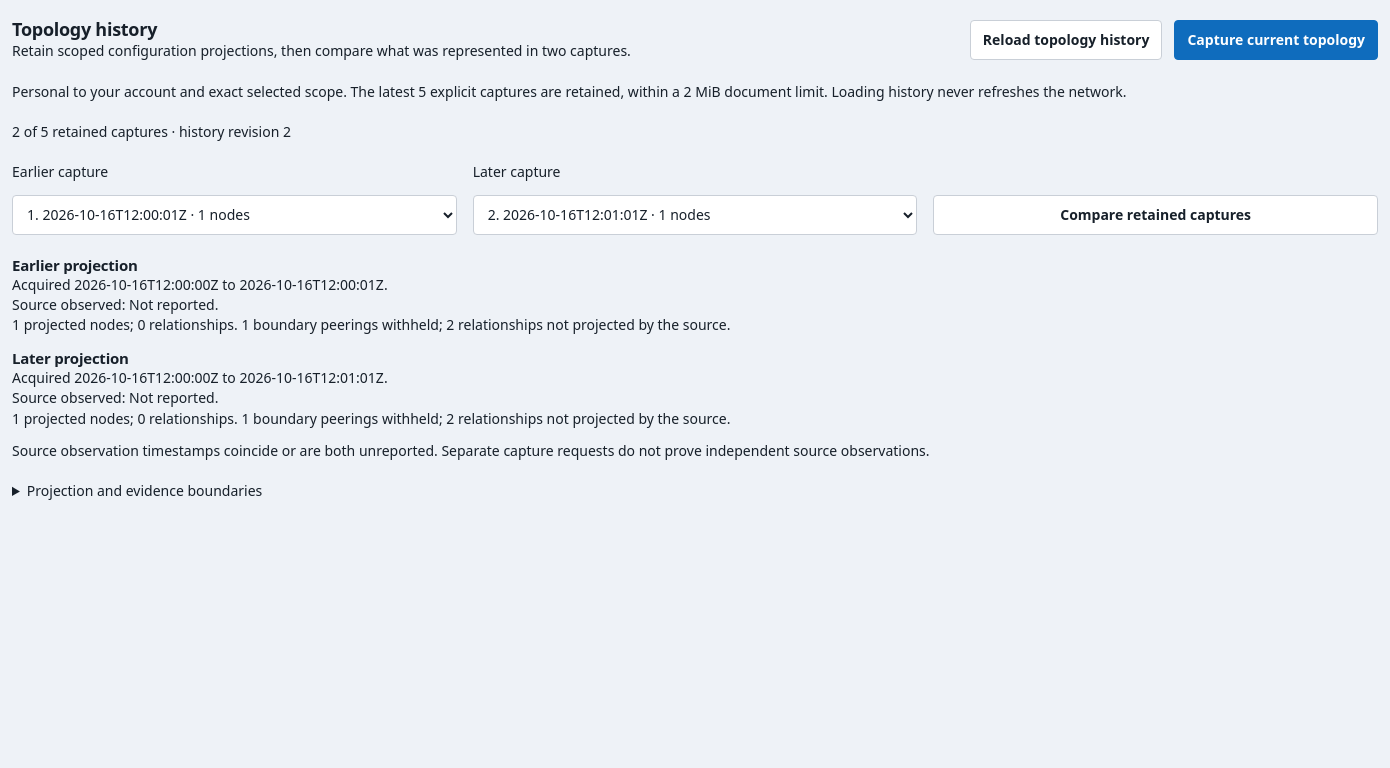
Retained topology history › captures only the reviewed revision and never compares automatically
The width and height of the screenshot is (1390, 768).
Expected: the text "2 of 5 retained captures · history revision 2" is shown, x1=12 y1=122 x2=291 y2=141
Step 1. Click the button "Capture current topology" → (1276, 40), box x1=1174 y1=20 x2=1378 y2=60
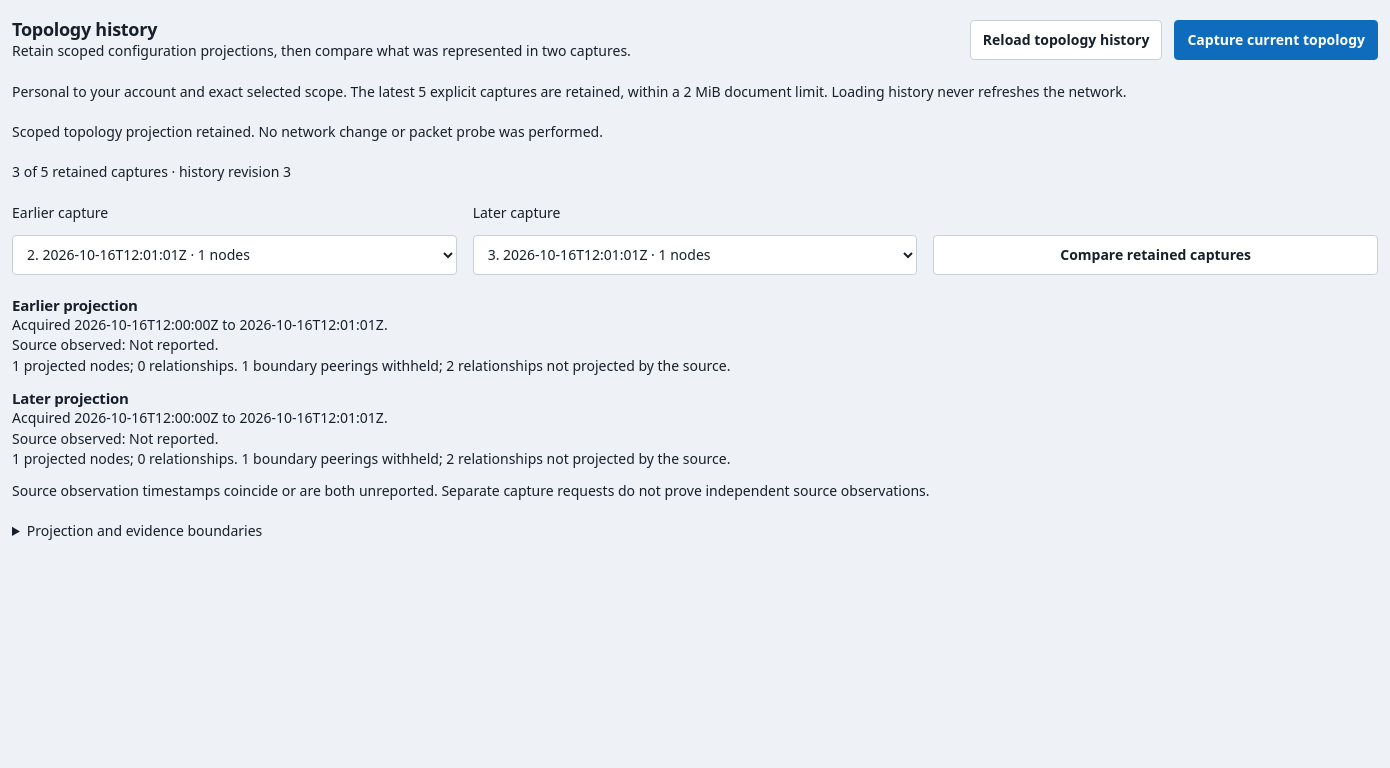
Expected: the text "Scoped topology projection retained" is shown, x1=12 y1=122 x2=603 y2=141
Expected: the text "3 of 5 retained captures · history revision 3" is shown, x1=12 y1=162 x2=291 y2=181
